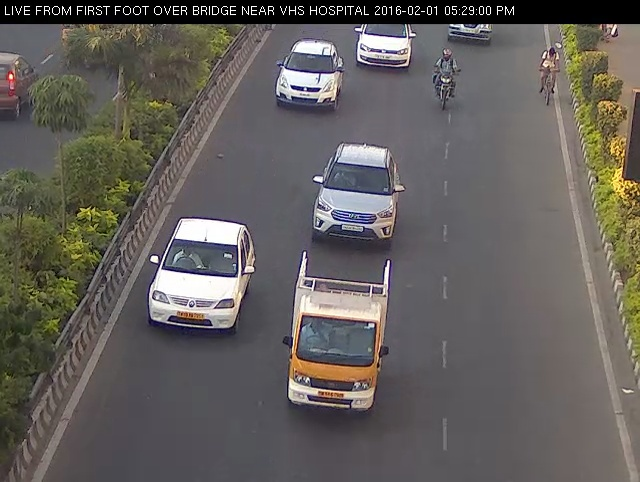Car: (281, 248, 397, 425), (143, 207, 260, 349), (300, 134, 414, 256), (267, 35, 348, 123), (350, 15, 419, 76), (441, 18, 502, 49)
Person: (426, 43, 467, 117)
